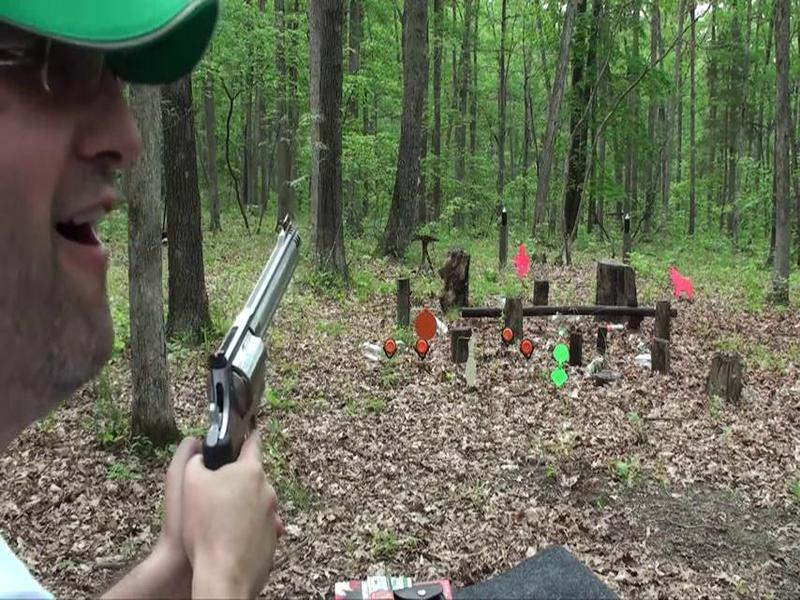Revolver: (192, 207, 305, 463)
